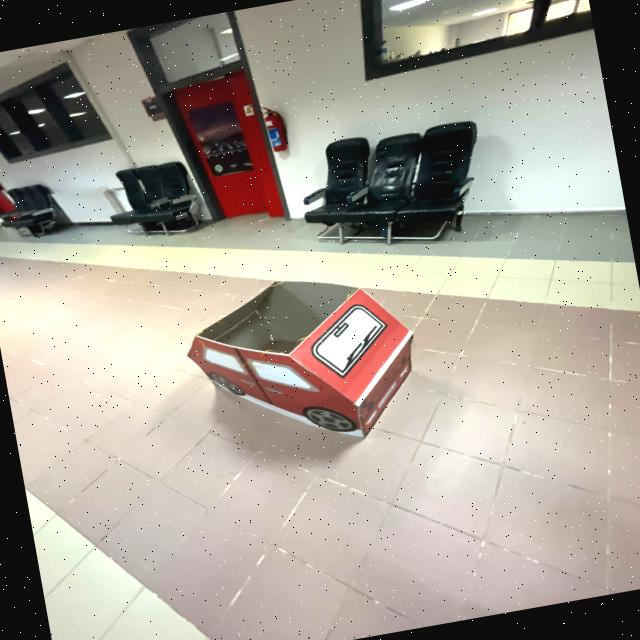red_car: (133, 246, 445, 481)
